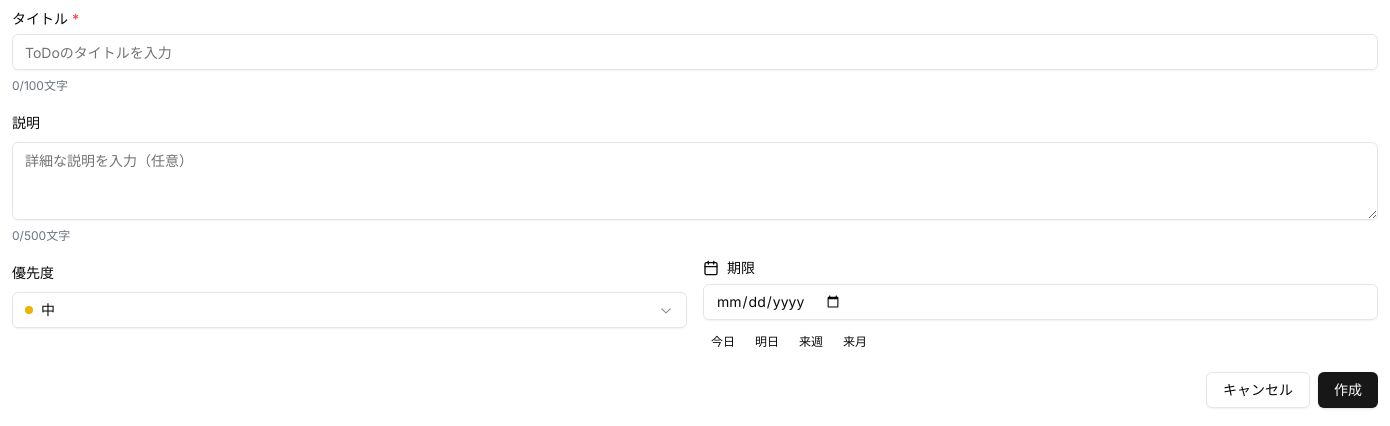
Test: TodoForm › Character Count › updates character count for title
Type "Hello" into the field labelled "タイトル *" at (695, 52), box x1=12 y1=34 x2=1378 y2=70
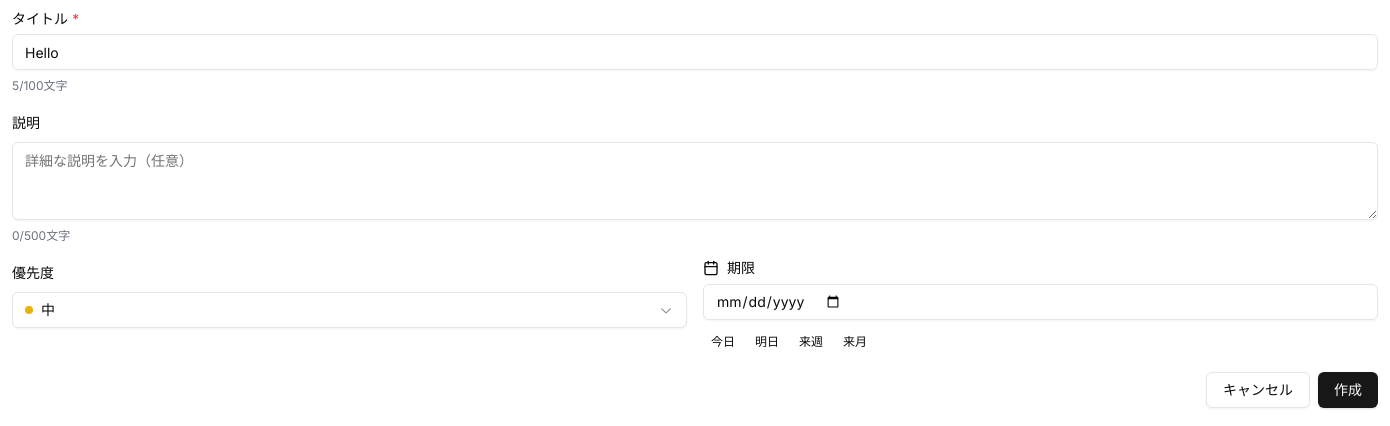
expect the text "5/100文字" is shown: met, box x1=12 y1=78 x2=68 y2=93
